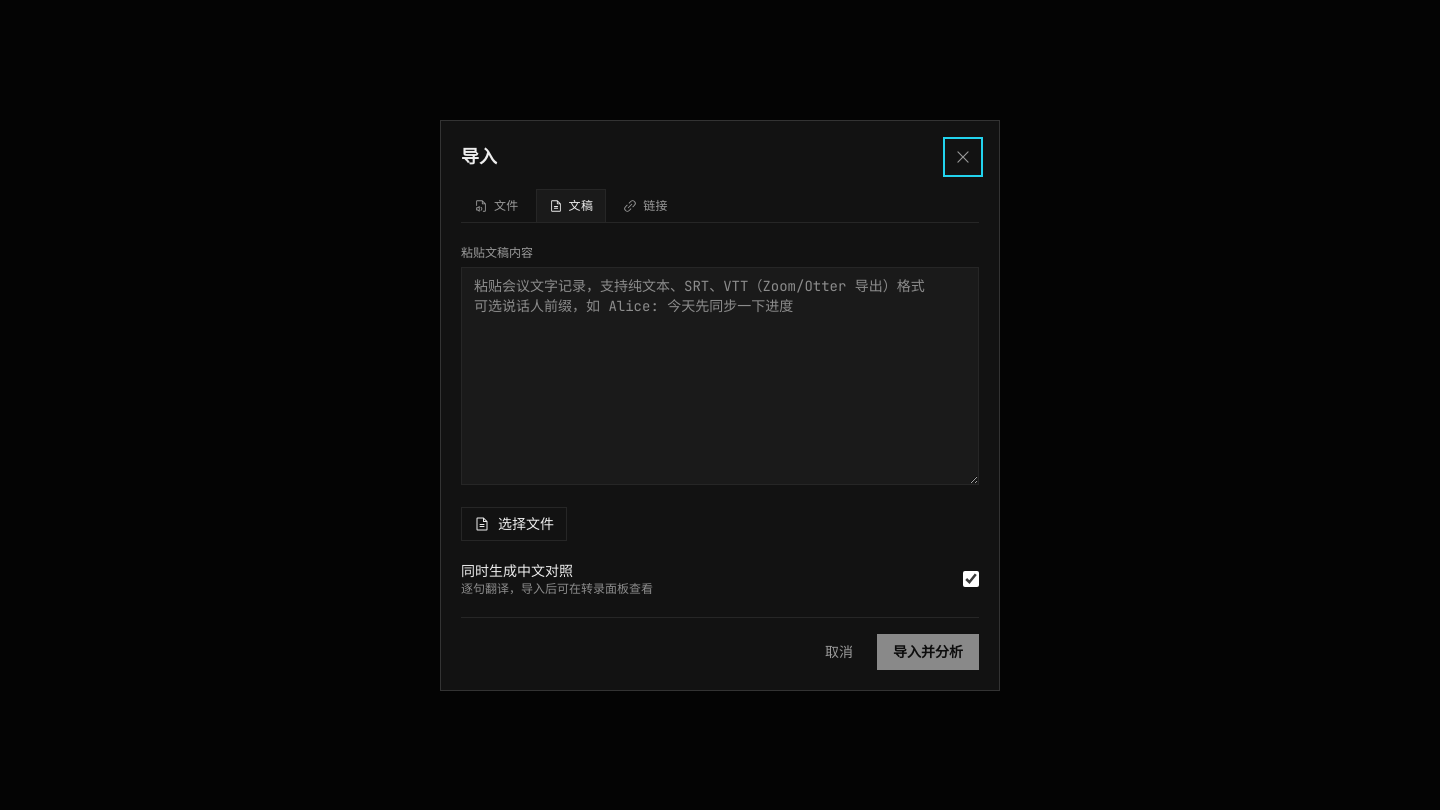
Scenario: ImportHub — 逐句翻译 default follows the saved setting › the user's own toggle while the hub is open is not overwritten by a re-render
Click the checkbox labelled "同时生成中文对照 逐句翻译，导入后可在转录面板查看" at point(971, 578), box left=963, top=570, right=979, bottom=586
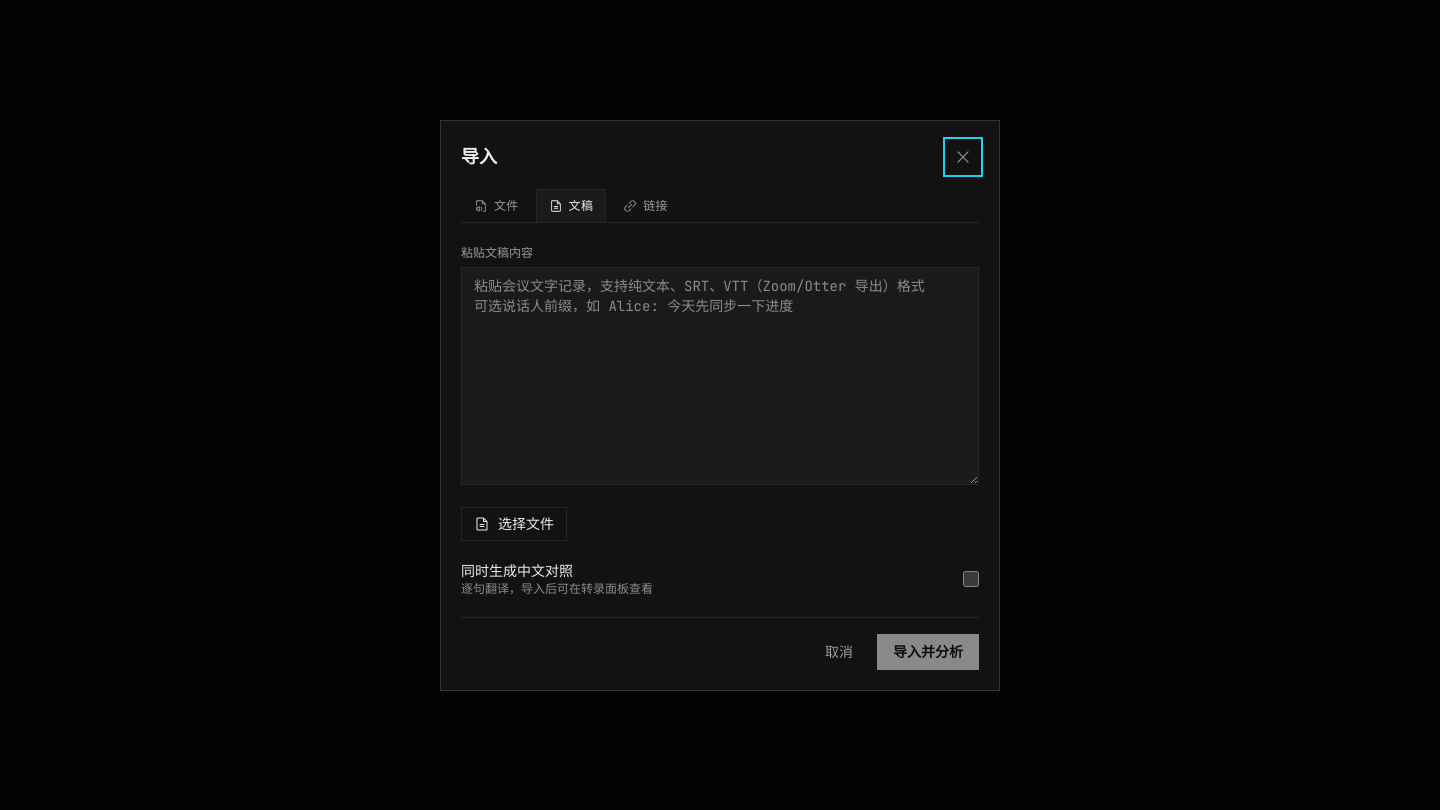
Result: the checkbox labelled "同时生成中文对照 逐句翻译，导入后可在转录面板查看" is not checked at left=963, top=570, right=979, bottom=586
